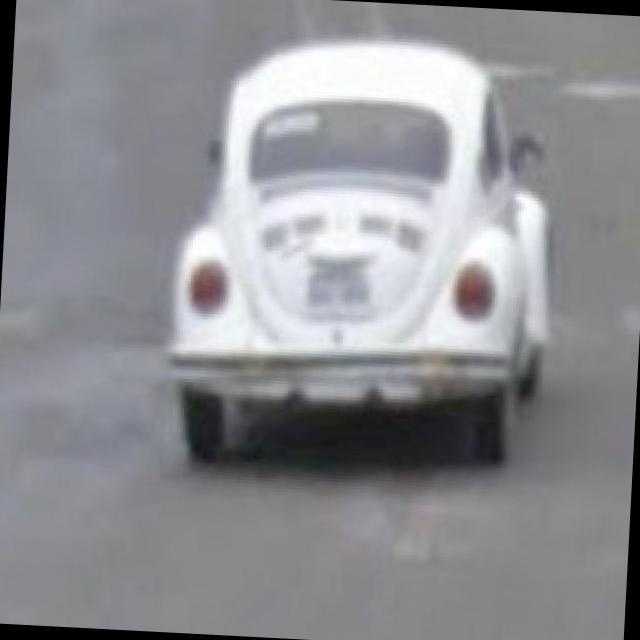car: (169, 39, 566, 482)
